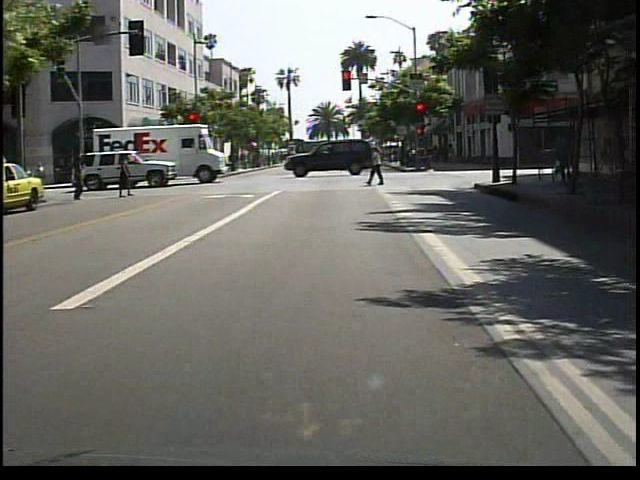person: (554, 136, 580, 192), (112, 152, 135, 202), (368, 144, 392, 189), (68, 157, 89, 207)
